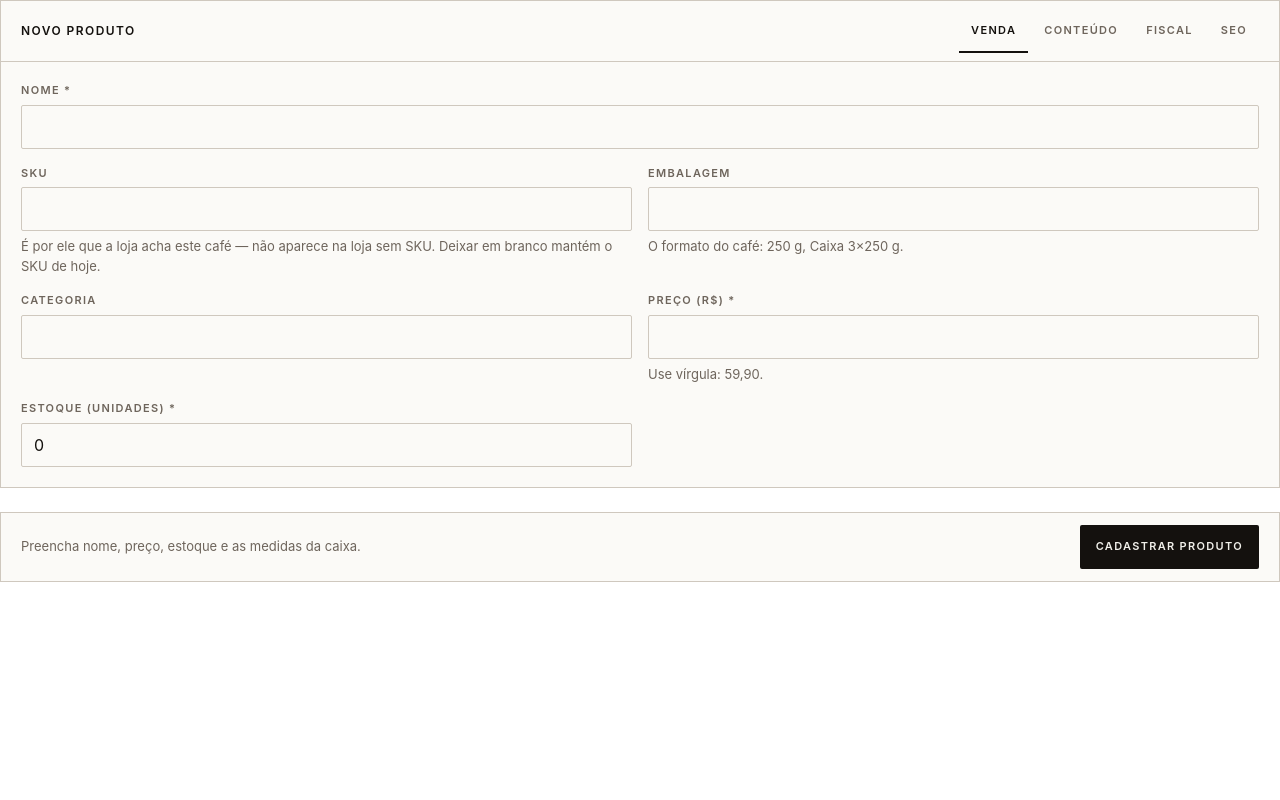
o cadastro › nasce com o botão de criar e com a caixa padrão à vista
Expected: the button "Cadastrar produto" is shown, 1080,524 -> 1259,568
Click the tab "Fiscal" at {"x": 1169, "y": 31}, box 1134,9 -> 1205,53
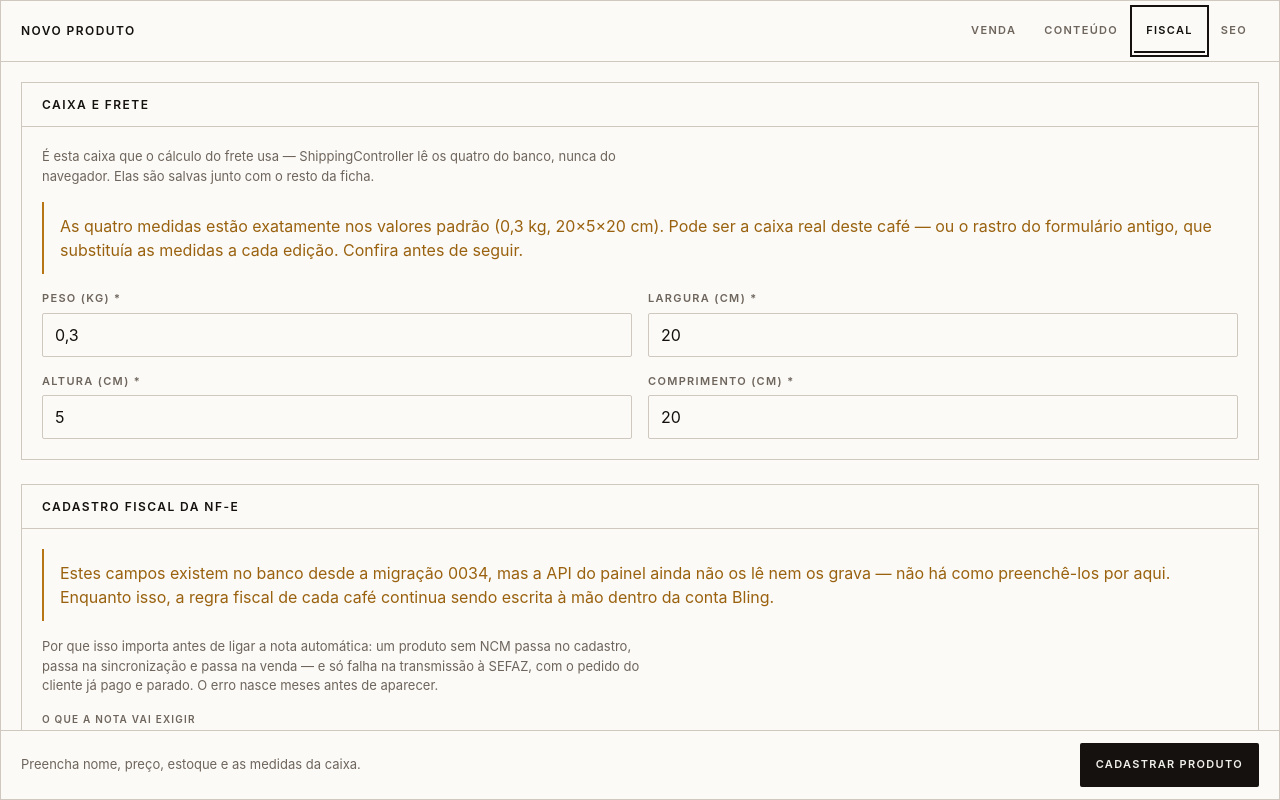
Expected: the field labelled "Peso (kg) *" holds "0,3", 42,312 -> 632,356
